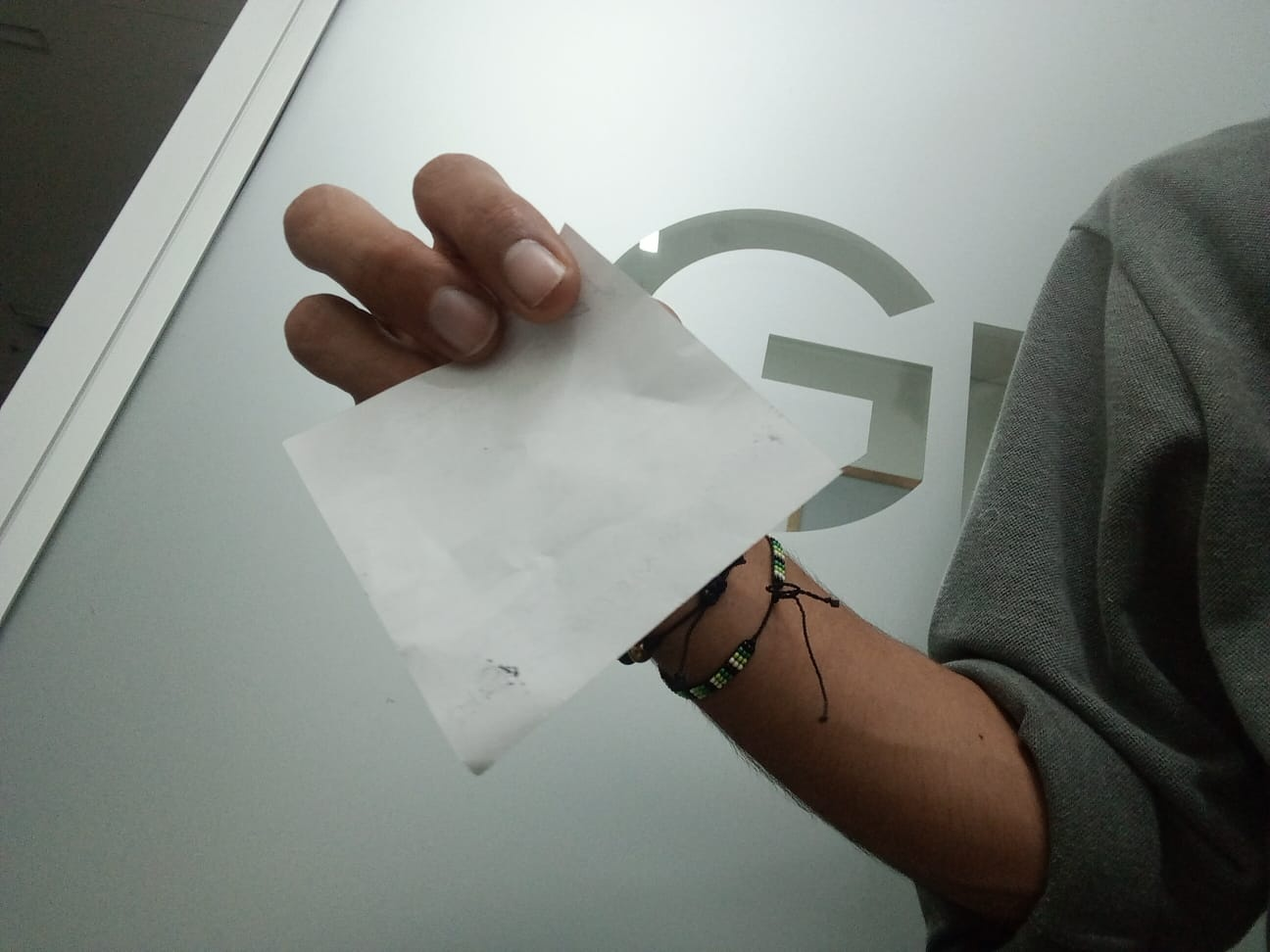Papel: (279, 226, 846, 778)
